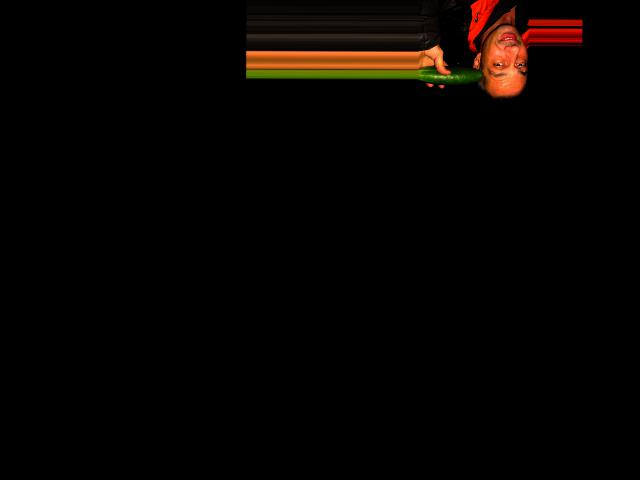cucumber: (418, 66, 483, 85)
